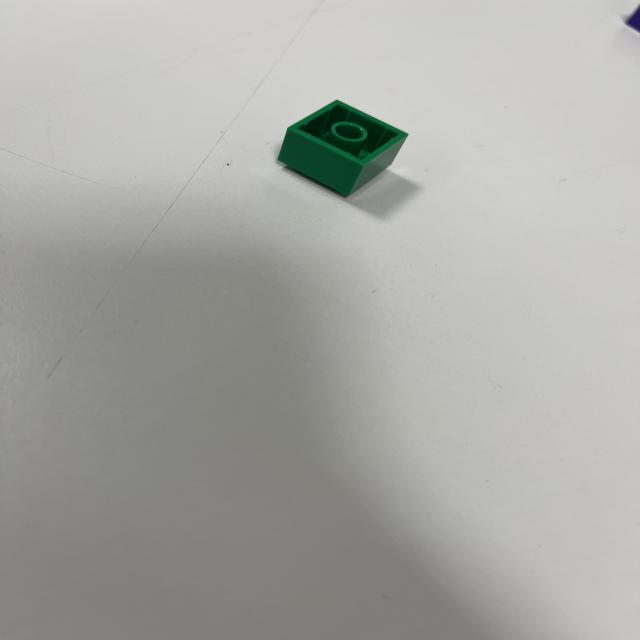C2x2x1: (282, 97, 406, 201)
